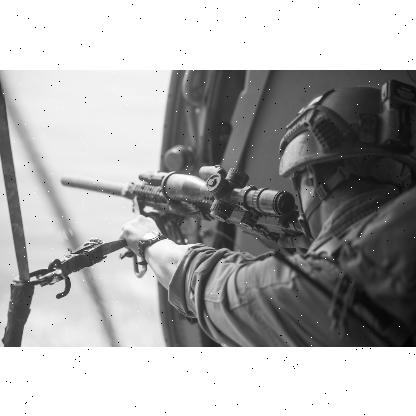gun: (63, 164, 303, 250)
